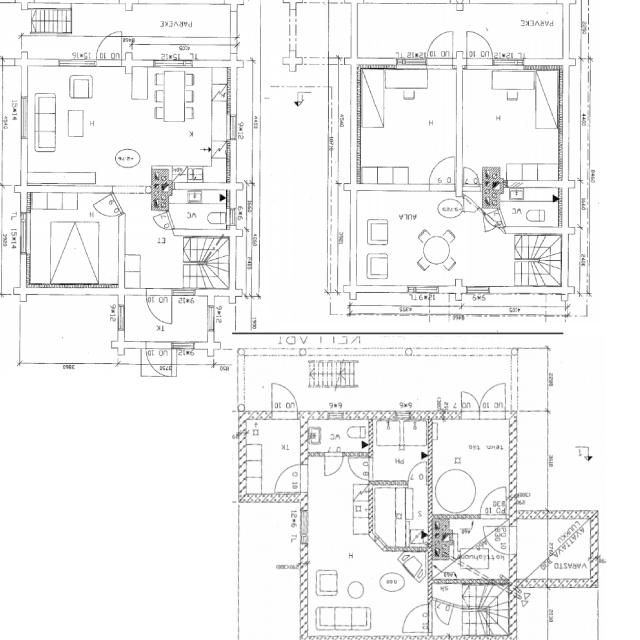door: (466, 30, 493, 70), (427, 30, 452, 70), (480, 382, 506, 420), (145, 342, 172, 378), (94, 192, 124, 224), (429, 197, 458, 230), (396, 190, 426, 221), (272, 383, 297, 420), (146, 287, 172, 322), (96, 30, 121, 66), (275, 464, 307, 492), (484, 526, 516, 554), (402, 604, 432, 633), (480, 486, 506, 519), (452, 194, 479, 224), (472, 213, 498, 240), (150, 211, 174, 235), (348, 458, 373, 481), (432, 598, 453, 624), (461, 391, 479, 420), (325, 452, 343, 476), (409, 462, 426, 487), (464, 168, 480, 188)
